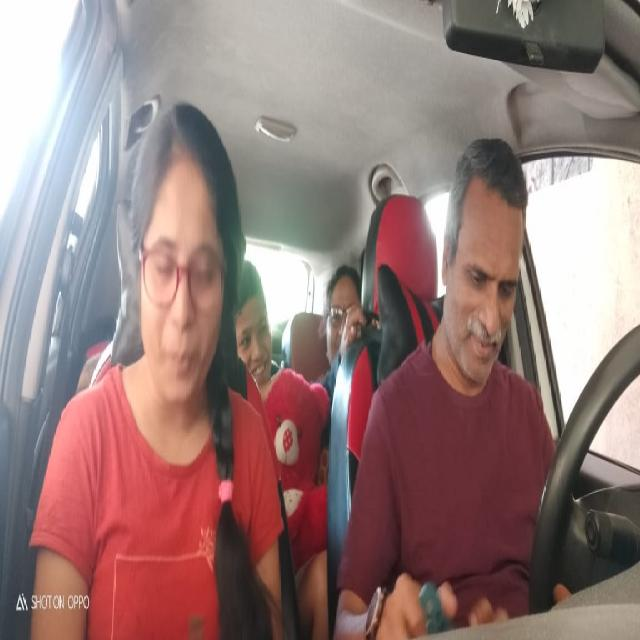person: (128, 98, 242, 415), (440, 133, 536, 403), (234, 259, 277, 393), (321, 261, 358, 360)
